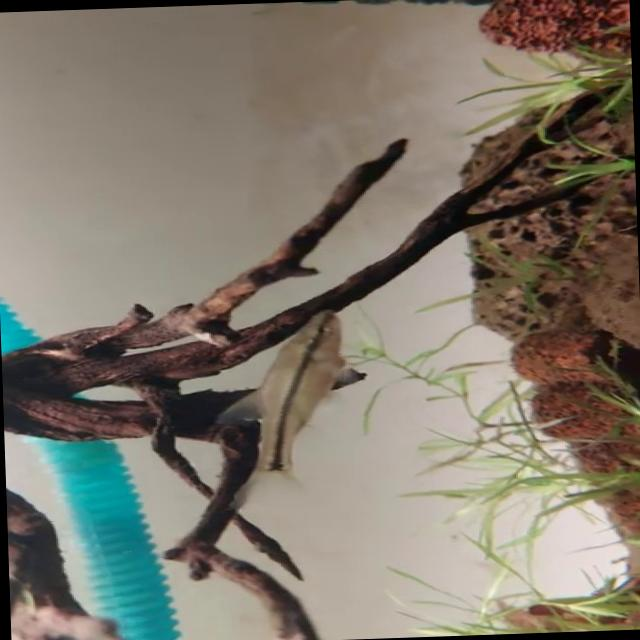Cakil Baligi: (206, 304, 372, 478)
